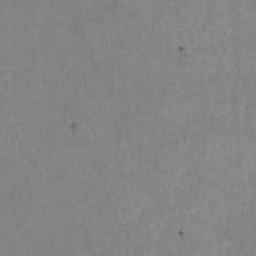Inclusion: (70, 122, 77, 128)
